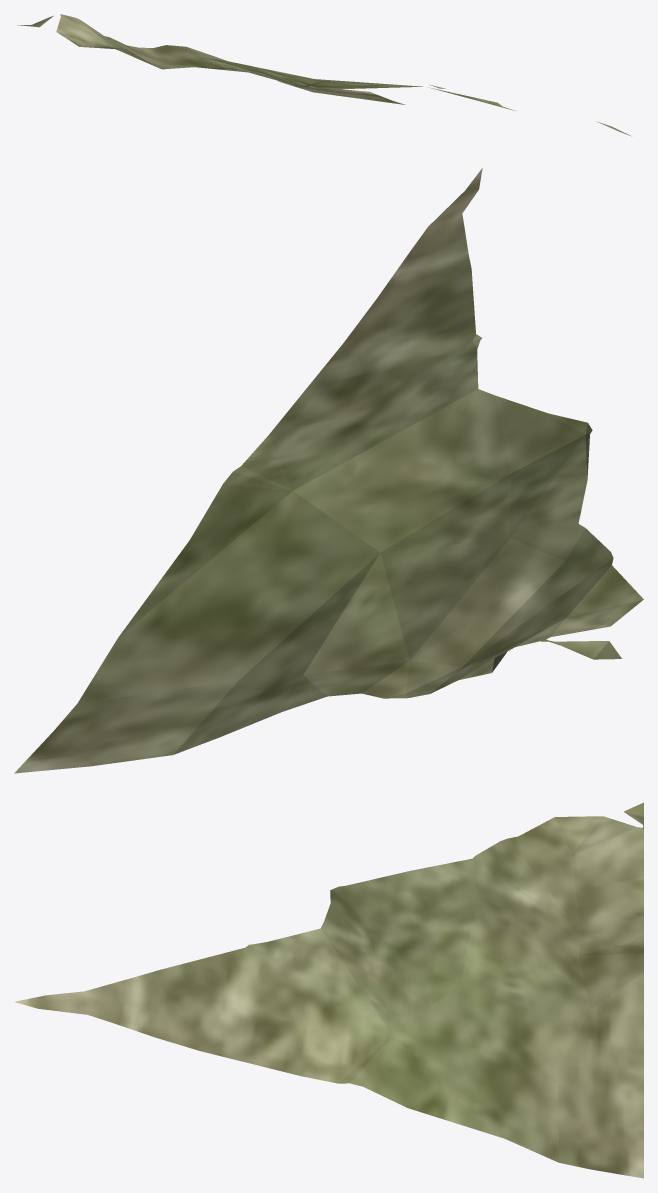
3 renders of one model, top to bottom at view 1: azimuth 30°, elevation 25°; view 2: azimuth 150°, elevation 25°; view 3: azimuth 270°, elevation 25°, orthographic. The views are drawn at different scales.
Bounding box in the file's own units: 1.21 × 0.4986 × 1.61.
Materials: 1 (1 with a texture image).
